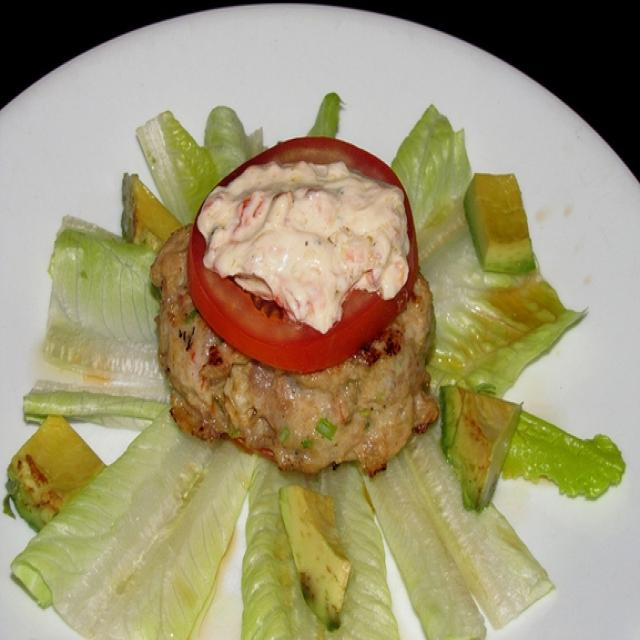炸货点心: (20, 24, 603, 624)
熟制海鲜: (20, 24, 603, 624)
